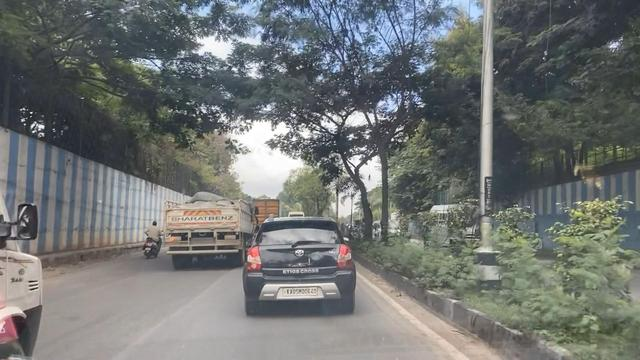HMV: (0, 118, 72, 360), (164, 175, 257, 277)
LMV: (236, 203, 377, 331), (141, 218, 165, 265)
